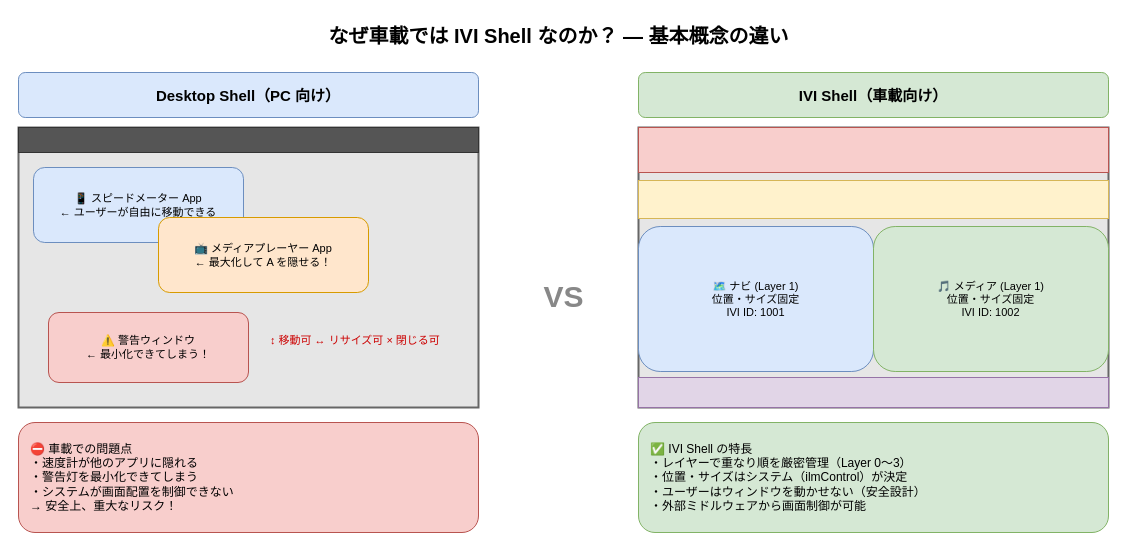
The diagram is 1126 pixels wide and 550 high, and some of its shapes have lost their labels. Each missing label, with the centre of its shape:
"□ □ □ デスクトップ" goes at [248,139].
"📊 ステータスバー (Layer 2) 速度: 60km/h ｜ 燃料: 50% ｜ 気温: 24°C" goes at [873,199].
"🖼️ 背景 (Layer 0)" goes at [873,392].
"🚨 警告レイヤー (Layer 3) ― 常に最前面・絶対に隠れない" goes at [873,149].
